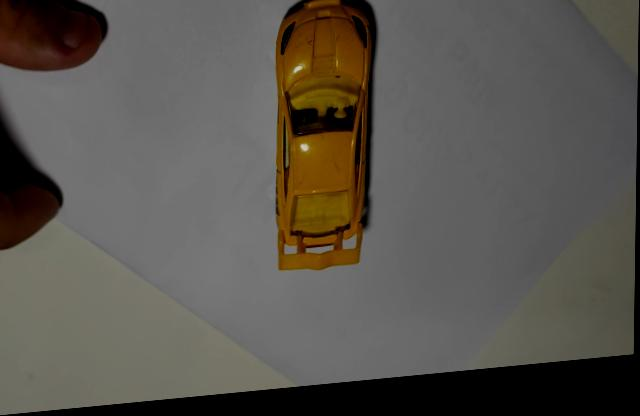07_RHLTURBO: (273, 0, 378, 277)
